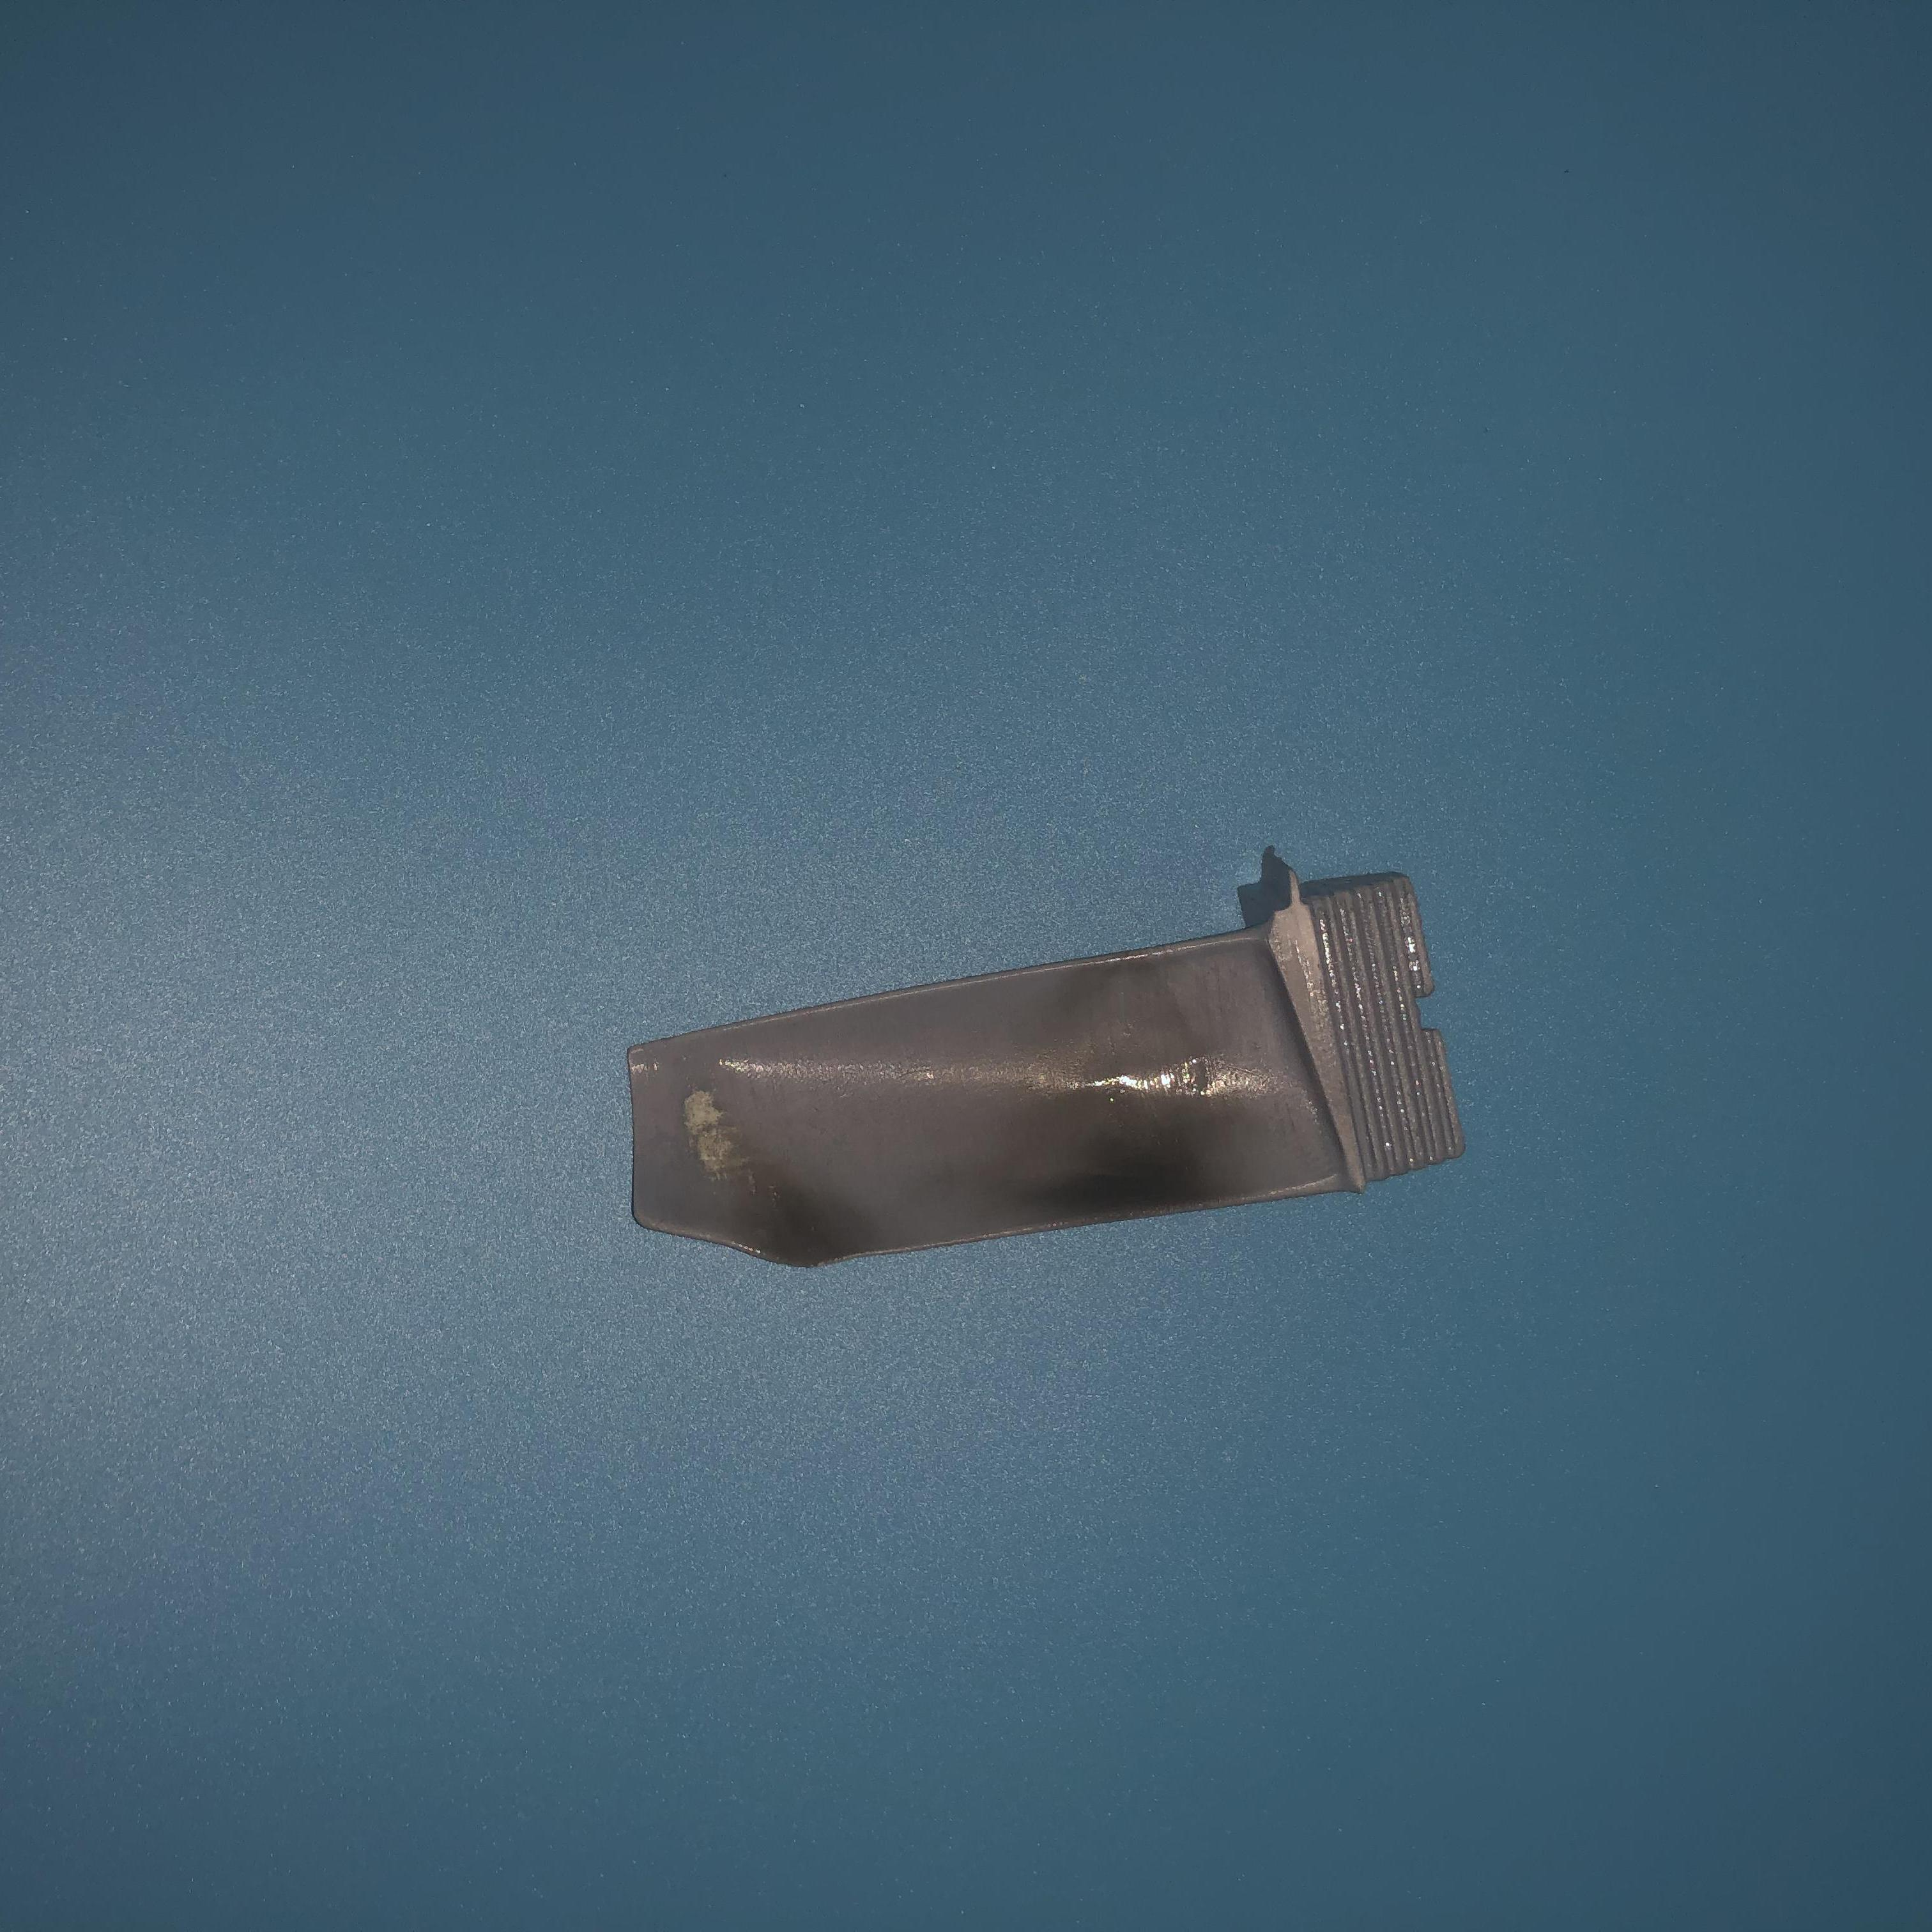ablation: (1063, 961, 1226, 1217), (676, 1060, 867, 1251)
